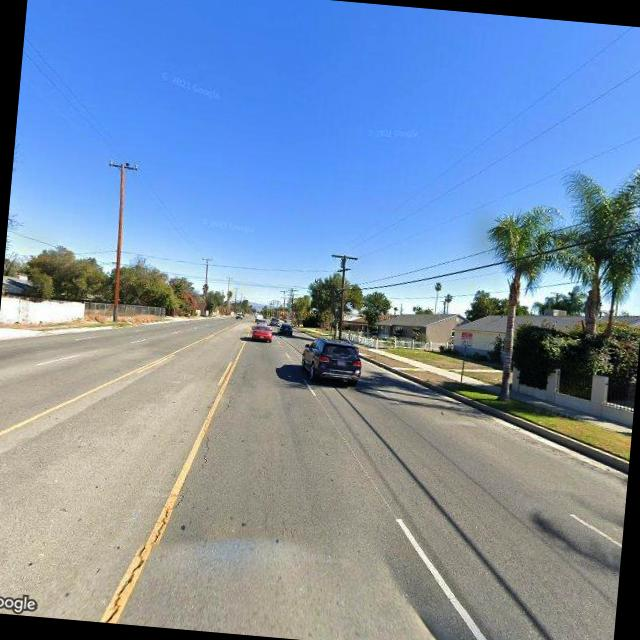pothole: (101, 383, 233, 631)
